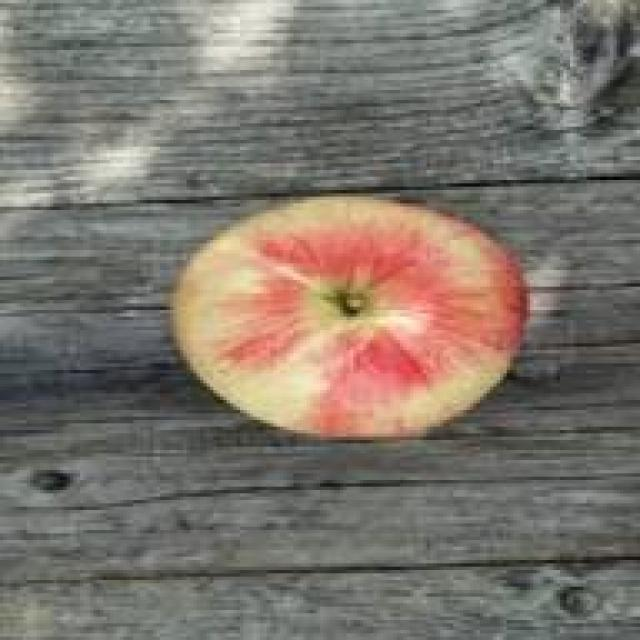apple: (173, 206, 517, 436)
